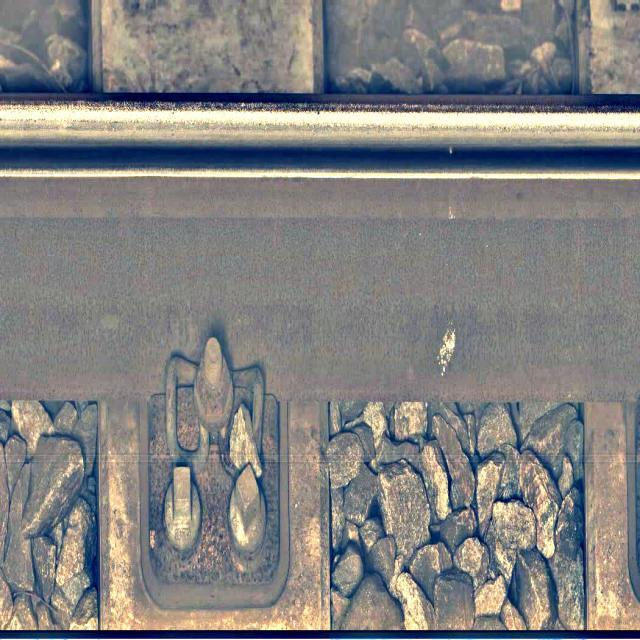Good Fasteners: (143, 337, 280, 585)
